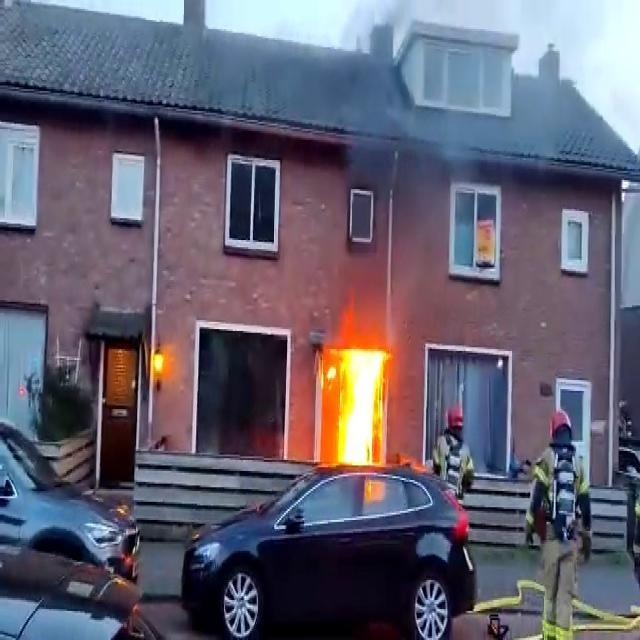Fire: (322, 332, 392, 472)
